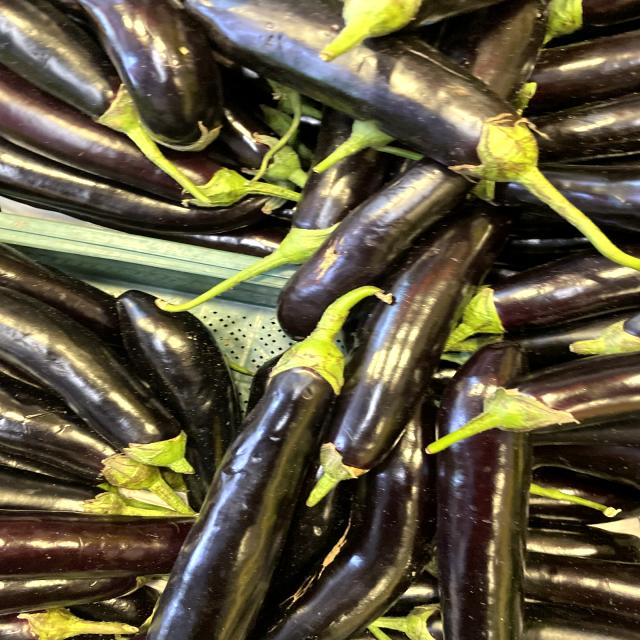eggplant: (171, 0, 638, 266), (136, 271, 412, 640), (292, 199, 523, 506)
